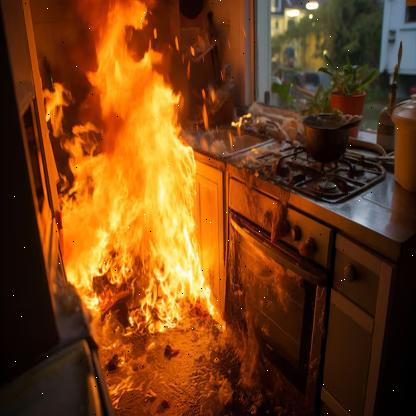fire: (43, 4, 219, 357)
